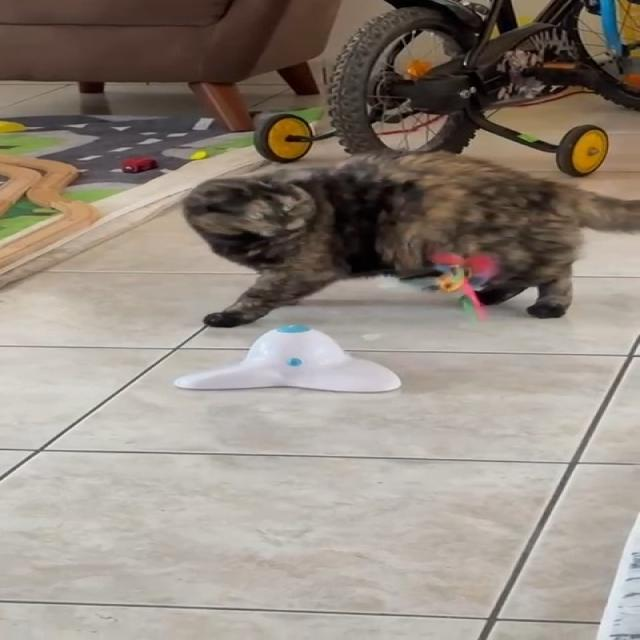authorized: (180, 147, 639, 328)
